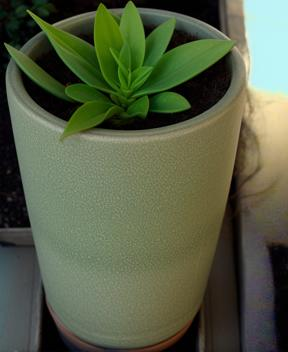pottedplant: (1, 1, 245, 352)
